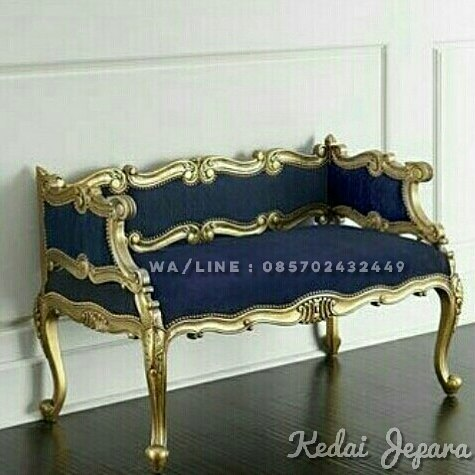Carving Chair: (40, 152, 467, 425)
